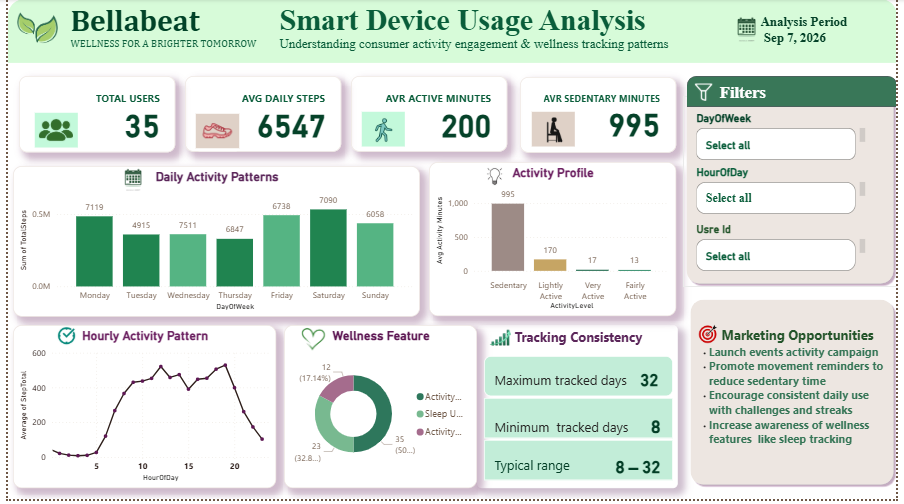

What the dashboard file says about the page in this screenshot:
{"tool":"powerbi","page":{"name":"Page 1","canvas":[1280,720],"ordinal":0},"visuals":[{"type":"shape","box":[508,149,70,58.6],"z":0,"group":"g10"},{"type":"shape","box":[26.1,159.2,90,55.7],"z":0,"group":"g8"},{"type":"shape","box":[675.4,469.5,289.4,234.7],"z":0,"group":"g5"},{"type":"shape","box":[757.1,150,70,58.6],"z":1000,"group":"g11"},{"type":"shape","box":[977.1,427.1,302.9,277.1],"z":1000,"group":"g2"},{"type":"shape","box":[0,0,1280.2,92.2],"z":2000,"group":"g6"},{"type":"group","id":"g1","title":"Group 1","box":[969.1,110.9,311,303.8],"z":3000},{"type":"cardVisual","fields":{"Data":["Count(dailyActivity.Id)"]},"box":[7.1,105.7,225,110],"z":4000},{"type":"shape","box":[265.7,155.7,71.4,57.1],"z":4000,"group":"g9"},{"type":"group","id":"g2","title":"Group 2","box":[977.1,427.1,302.9,277.1],"z":5000},{"type":"cardVisual","fields":{"Data":["dailyActivity.Avg Sedentary Minutes"]},"box":[734.3,100,224.3,108.6],"z":6000},{"type":"image","box":[505.7,145.7,80,62.9],"z":6000,"group":"g10"},{"type":"cardVisual","fields":{"Data":["Avg(dailyActivity.TotalSteps)"]},"box":[246.2,105.7,224.6,109.4],"z":7000},{"type":"clusteredColumnChart","title":"Daily Activity Patterns","fields":{"Category":["dailyActivity.DayOfWeek"],"Y":["Avg(dailyActivity.TotalSteps)"]},"box":[0,241.4,585.7,218.6],"z":7000,"group":"g7"},{"type":"cardVisual","fields":{"Data":["dailyActivity.Avg Active Minutes"]},"box":[485.7,105.7,224.6,109.4],"z":8000},{"type":"lineChart","title":"Hourly Activity Pattern","fields":{"Y":["Avg(hourlySteps.StepTotal)"],"Category":["hourlySteps.HourOfDay"]},"box":[7.2,469.5,378.7,234.7],"z":8000,"group":"g3"},{"type":"group","id":"g3","title":"Group 5","box":[7.2,459.4,378.7,244.8],"z":9000},{"type":"group","id":"g4","title":"Group 6","box":[397.4,459.4,277.9,244.8],"z":10000},{"type":"donutChart","title":"Wellness Feature","fields":{"Y":["ActivityProfile.Sleep Users","ActivityProfile.Activity Users"]},"box":[397.4,469.5,277.9,234.7],"z":10000,"group":"g4"},{"type":"group","id":"g5","title":"Group 7","box":[675.4,463.7,289.4,240.5],"z":11000},{"type":"group","id":"g6","title":"Group 14","box":[0,0,1280.2,92.3],"z":12000},{"type":"clusteredColumnChart","title":"Activity Profile","fields":{"Category":["ActivityProfile.ActivityLevel"],"Y":["ActivityProfile.Avg Activity Minutes"]},"box":[602.9,237.1,355.7,222.9],"z":13000},{"type":"image","box":[675.4,236.2,50.4,38.9],"z":14000},{"type":"textbox","box":[85,0,301,92.2],"z":15000,"group":"g6"},{"type":"group","id":"g7","title":"Group 3","box":[0,235.7,585.7,224.3],"z":15000},{"type":"textbox","box":[386.2,0,643.1,92.3],"z":16000,"group":"g6"},{"type":"group","id":"g8","title":"Group 4","box":[9.7,152.7,118.6,67.1],"z":16000},{"type":"textbox","box":[1078.6,17.3,201.6,74.9],"z":17000,"group":"g6"},{"type":"group","id":"g9","title":"Group 8","box":[265.7,155.7,71.4,57.1],"z":17000},{"type":"group","id":"g10","title":"Group 9","box":[505.7,145.7,80,62.9],"z":17001},{"type":"shape","box":[972,139.7,308.2,275],"z":18000,"group":"g1"},{"type":"advancedSlicerVisual","fields":{"Values":["dailyActivity.DayOfWeek"]},"box":[986.4,162.7,253.4,74.9],"z":19000,"group":"g1"},{"type":"advancedSlicerVisual","fields":{"Values":["hourlySteps.HourOfDay"]},"box":[986.4,240.5,253.4,74.9],"z":20000,"group":"g1"},{"type":"advancedSlicerVisual","title":"Usre Id","fields":{"Values":["hourlyCalories.Id"]},"box":[986.4,322.6,253.4,74.9],"z":21000,"group":"g1"},{"type":"image","box":[274.3,155.7,54.3,57.1],"z":22000,"group":"g9"},{"type":"image","box":[9.7,152.7,118.6,67.1],"z":23000,"group":"g8"},{"type":"image","box":[0,0,84.6,83.1],"z":24000,"group":"g6"},{"type":"image","box":[64.8,459.4,38.9,51.8],"z":25000,"group":"g3"},{"type":"image","box":[768.1,157.1,50,47.1],"z":26000,"group":"g11"},{"type":"group","id":"g11","title":"Group 10","box":[757.1,150,70,58.6],"z":26001},{"type":"image","box":[145.7,235.7,61.4,45.7],"z":27000,"group":"g7"},{"type":"textbox","box":[985.8,466.1,282.7,215.1],"z":28000,"group":"g2"},{"type":"image","box":[985.8,457.4,43.3,49.1],"z":29000,"group":"g2"},{"type":"image","box":[413.2,459.4,53.3,61.9],"z":30000,"group":"g4"},{"type":"image","box":[1029.6,17.3,67.7,49],"z":32000,"group":"g6"},{"type":"shape","box":[977.7,110.9,302.4,44.6],"z":34000,"group":"g1"},{"type":"image","box":[969.1,116.7,64.8,34.6],"z":35000,"group":"g1"},{"type":"textbox","box":[1019.5,116.7,119.5,60.5],"z":36000,"group":"g1"},{"type":"cardVisual","fields":{"Data":["ActivityProfile.Typical Range"]},"box":[685.5,635.1,272.2,57.6],"z":37000,"group":"g5"},{"type":"cardVisual","fields":{"Data":["ActivityProfile.Min Tracked Days"]},"box":[685.5,574.6,272.2,57.6],"z":38000,"group":"g5"},{"type":"cardVisual","fields":{"Data":["ActivityProfile.Max Tracked Days"]},"box":[685.5,514.1,272.2,57.6],"z":39000,"group":"g5"},{"type":"textbox","box":[685.5,469.5,272.2,50.4],"z":40000,"group":"g5"},{"type":"image","box":[681.2,463.7,56.2,47.5],"z":41000,"group":"g5"},{"type":"textbox","box":[695.6,531.4,213.1,34.6],"z":42000,"group":"g5"},{"type":"textbox","box":[695.6,653.8,168.5,38.9],"z":43000,"group":"g5"},{"type":"textbox","box":[695.6,599.1,213.1,36],"z":44000,"group":"g5"}]}

Visuals, with their boxes in screenshot pixels (x1, y1, x2, y2), scaled from the page's 1280x720 canvas onto the 904x504 screenshot:
shape: {"left": 359, "top": 104, "right": 408, "bottom": 145}
shape: {"left": 18, "top": 111, "right": 82, "bottom": 150}
shape: {"left": 477, "top": 329, "right": 681, "bottom": 493}
shape: {"left": 535, "top": 105, "right": 584, "bottom": 146}
shape: {"left": 690, "top": 299, "right": 903, "bottom": 493}
shape: {"left": 0, "top": 0, "right": 903, "bottom": 65}
"Group 1" group: {"left": 684, "top": 78, "right": 903, "bottom": 290}
cardVisual - Count(dailyActivity.Id): {"left": 5, "top": 74, "right": 164, "bottom": 151}
shape: {"left": 188, "top": 109, "right": 238, "bottom": 149}
"Group 2" group: {"left": 690, "top": 299, "right": 903, "bottom": 493}
cardVisual - dailyActivity.Avg Sedentary Minutes: {"left": 519, "top": 70, "right": 677, "bottom": 146}
image: {"left": 357, "top": 102, "right": 414, "bottom": 146}
cardVisual - Avg(dailyActivity.TotalSteps): {"left": 174, "top": 74, "right": 333, "bottom": 151}
"Daily Activity Patterns" clusteredColumnChart: {"left": 0, "top": 169, "right": 414, "bottom": 322}
cardVisual - dailyActivity.Avg Active Minutes: {"left": 343, "top": 74, "right": 502, "bottom": 151}
"Hourly Activity Pattern" lineChart: {"left": 5, "top": 329, "right": 273, "bottom": 493}
"Group 5" group: {"left": 5, "top": 322, "right": 273, "bottom": 493}
"Group 6" group: {"left": 281, "top": 322, "right": 477, "bottom": 493}
"Wellness Feature" donutChart: {"left": 281, "top": 329, "right": 477, "bottom": 493}
"Group 7" group: {"left": 477, "top": 325, "right": 681, "bottom": 493}
"Group 14" group: {"left": 0, "top": 0, "right": 903, "bottom": 65}
"Activity Profile" clusteredColumnChart: {"left": 426, "top": 166, "right": 677, "bottom": 322}
image: {"left": 477, "top": 165, "right": 513, "bottom": 193}
textbox: {"left": 60, "top": 0, "right": 273, "bottom": 65}
"Group 3" group: {"left": 0, "top": 165, "right": 414, "bottom": 322}
textbox: {"left": 273, "top": 0, "right": 727, "bottom": 65}
"Group 4" group: {"left": 7, "top": 107, "right": 91, "bottom": 154}
textbox: {"left": 762, "top": 12, "right": 903, "bottom": 65}
"Group 8" group: {"left": 188, "top": 109, "right": 238, "bottom": 149}
"Group 9" group: {"left": 357, "top": 102, "right": 414, "bottom": 146}
shape: {"left": 686, "top": 98, "right": 903, "bottom": 290}
advancedSlicerVisual - dailyActivity.DayOfWeek: {"left": 697, "top": 114, "right": 876, "bottom": 166}
advancedSlicerVisual - hourlySteps.HourOfDay: {"left": 697, "top": 168, "right": 876, "bottom": 221}
"Usre Id" advancedSlicerVisual: {"left": 697, "top": 226, "right": 876, "bottom": 278}
image: {"left": 194, "top": 109, "right": 232, "bottom": 149}
image: {"left": 7, "top": 107, "right": 91, "bottom": 154}
image: {"left": 0, "top": 0, "right": 60, "bottom": 58}
image: {"left": 46, "top": 322, "right": 73, "bottom": 358}
image: {"left": 542, "top": 110, "right": 578, "bottom": 143}
"Group 10" group: {"left": 535, "top": 105, "right": 584, "bottom": 146}
image: {"left": 103, "top": 165, "right": 146, "bottom": 197}
textbox: {"left": 696, "top": 326, "right": 896, "bottom": 477}
image: {"left": 696, "top": 320, "right": 727, "bottom": 355}
image: {"left": 292, "top": 322, "right": 329, "bottom": 365}
image: {"left": 727, "top": 12, "right": 775, "bottom": 46}
shape: {"left": 691, "top": 78, "right": 903, "bottom": 109}
image: {"left": 684, "top": 82, "right": 730, "bottom": 106}
textbox: {"left": 720, "top": 82, "right": 804, "bottom": 124}
cardVisual - ActivityProfile.Typical Range: {"left": 484, "top": 445, "right": 676, "bottom": 485}
cardVisual - ActivityProfile.Min Tracked Days: {"left": 484, "top": 402, "right": 676, "bottom": 443}
cardVisual - ActivityProfile.Max Tracked Days: {"left": 484, "top": 360, "right": 676, "bottom": 400}
textbox: {"left": 484, "top": 329, "right": 676, "bottom": 364}
image: {"left": 481, "top": 325, "right": 521, "bottom": 358}
textbox: {"left": 491, "top": 372, "right": 642, "bottom": 396}
textbox: {"left": 491, "top": 458, "right": 610, "bottom": 485}
textbox: {"left": 491, "top": 419, "right": 642, "bottom": 445}
